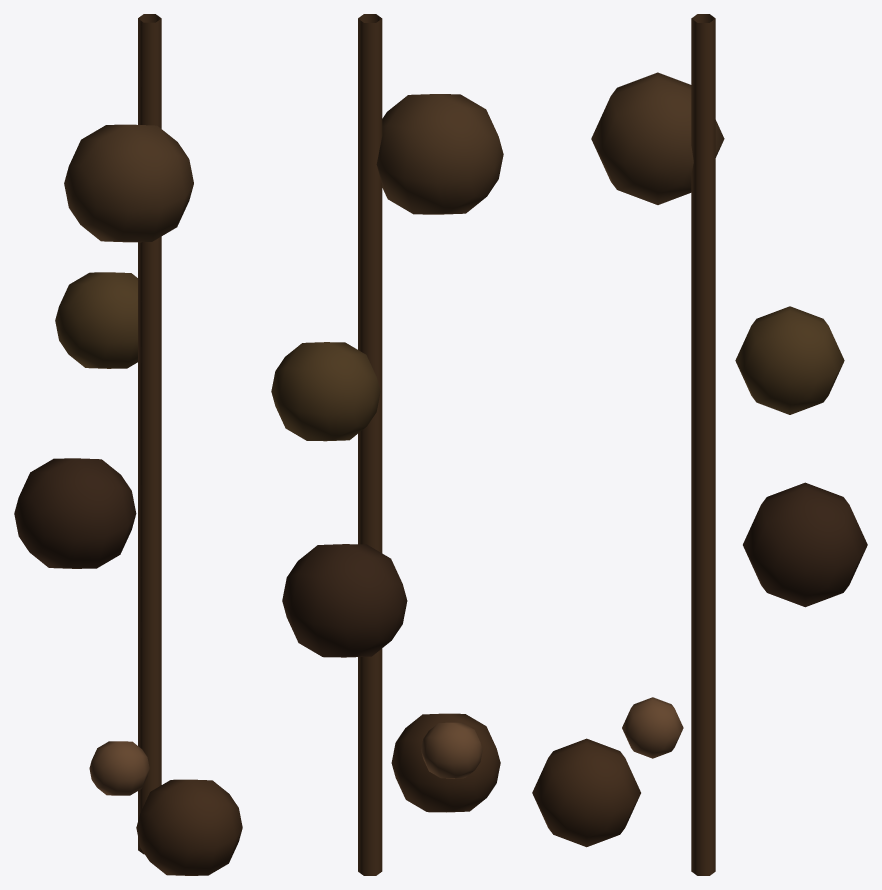
The model's file is section-3.obj.
3 views of the same model, side by side, from view 1: azimuth 30°, elevation 25°; view 2: azimuth 150°, elevation 25°; view 3: azimuth 270°, elevation 25° (orthographic). The views are drawn at different scales.
Size of the model in its own units: 0.1704 by 0.926 by 0.3303.
